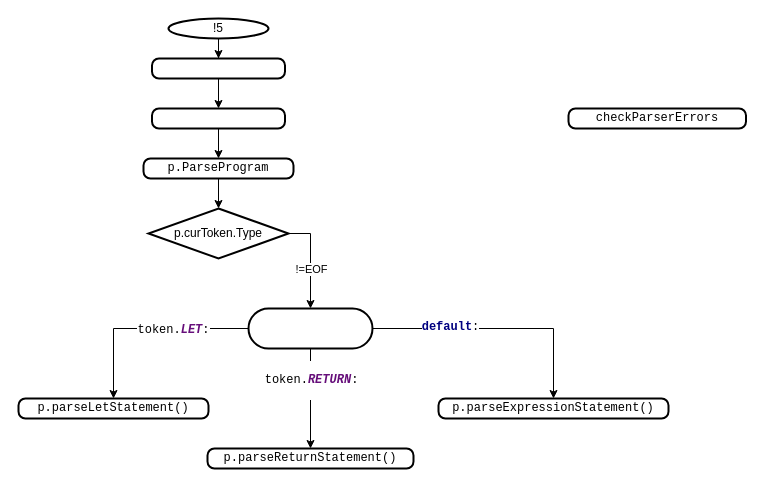
Some shapes in this 764 by 494 pixel diagram are drawn without their labels. Each missing label, with the box of its shape:
l = lexer.New(): (150, 57, 286, 79)
p := New(l): (150, 107, 286, 129)
p.parseStatement(): (247, 307, 373, 349)
